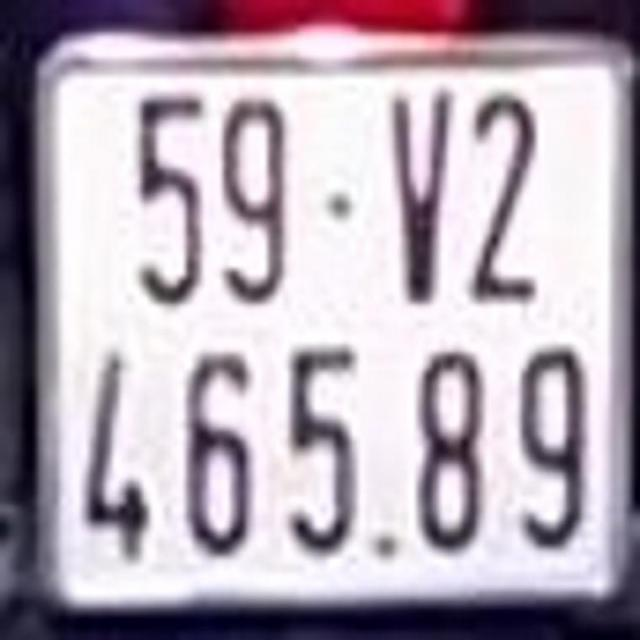2: (471, 90, 540, 301)
5: (134, 97, 214, 306), (293, 346, 366, 545), (87, 361, 152, 560)
6: (184, 346, 252, 549)
8: (419, 353, 478, 553)
9: (514, 343, 585, 546), (222, 102, 290, 300)
V: (384, 92, 456, 308)
